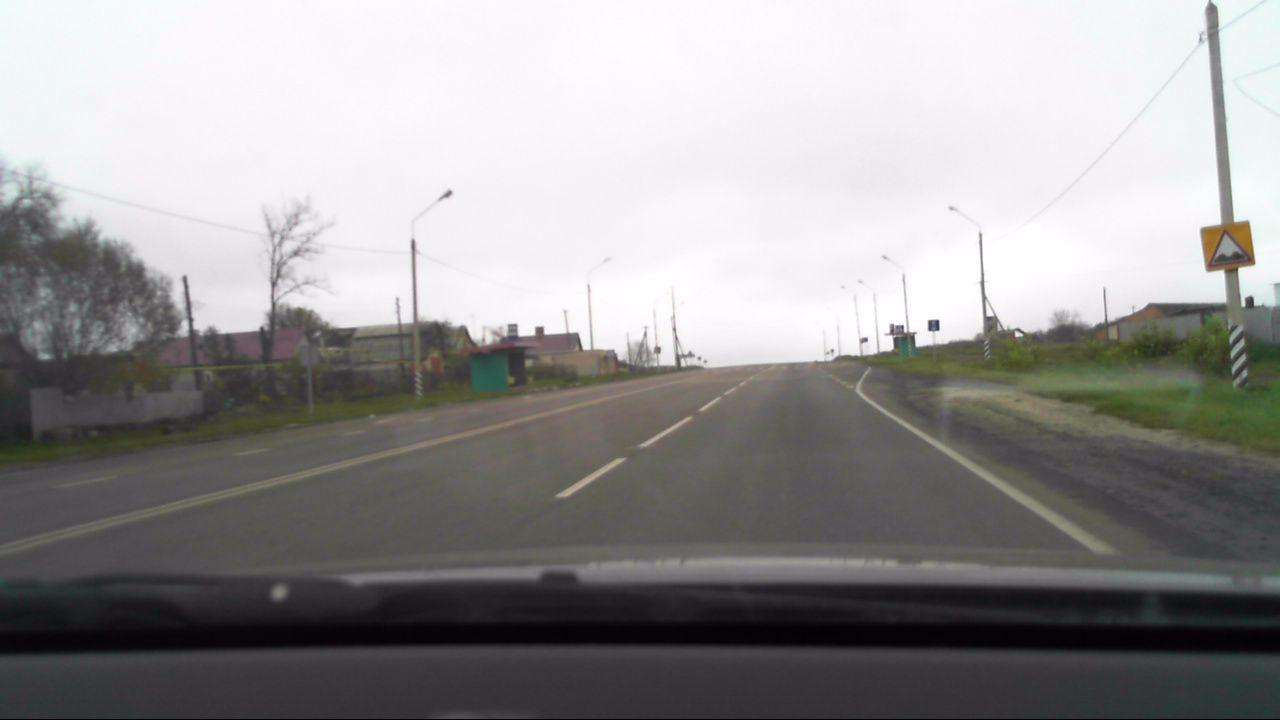1_16: (1198, 220, 1256, 273)
5_14_1: (928, 319, 940, 331)
